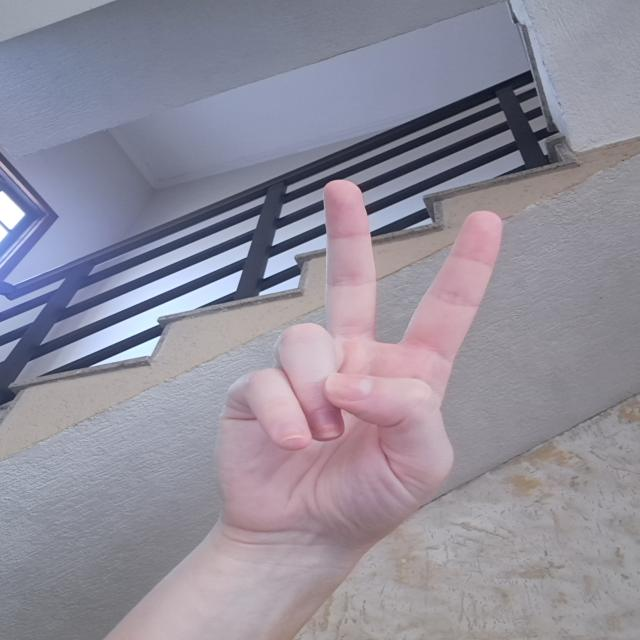V: (209, 173, 515, 547)
